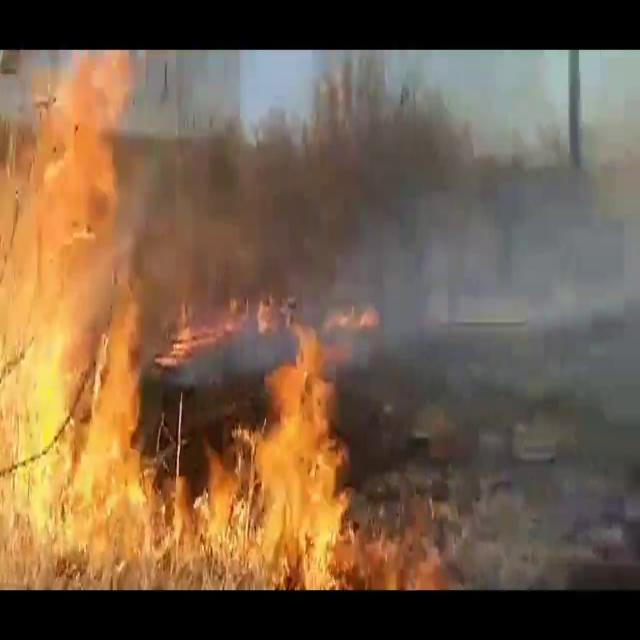Fire: (0, 55, 166, 586), (204, 320, 354, 586)
Smoke: (173, 51, 628, 360)
